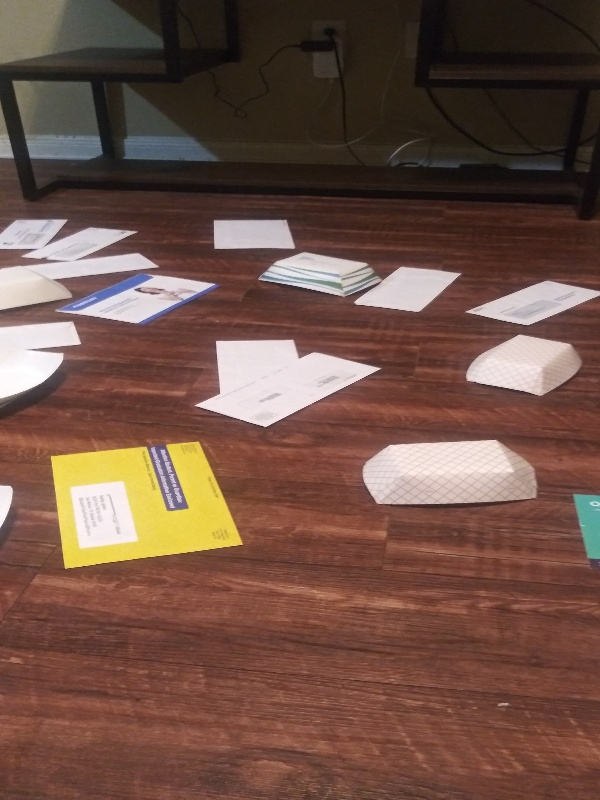plate: (357, 439, 542, 509), (462, 331, 586, 399), (256, 250, 385, 296), (1, 339, 67, 413), (1, 266, 78, 315), (1, 476, 17, 551)
